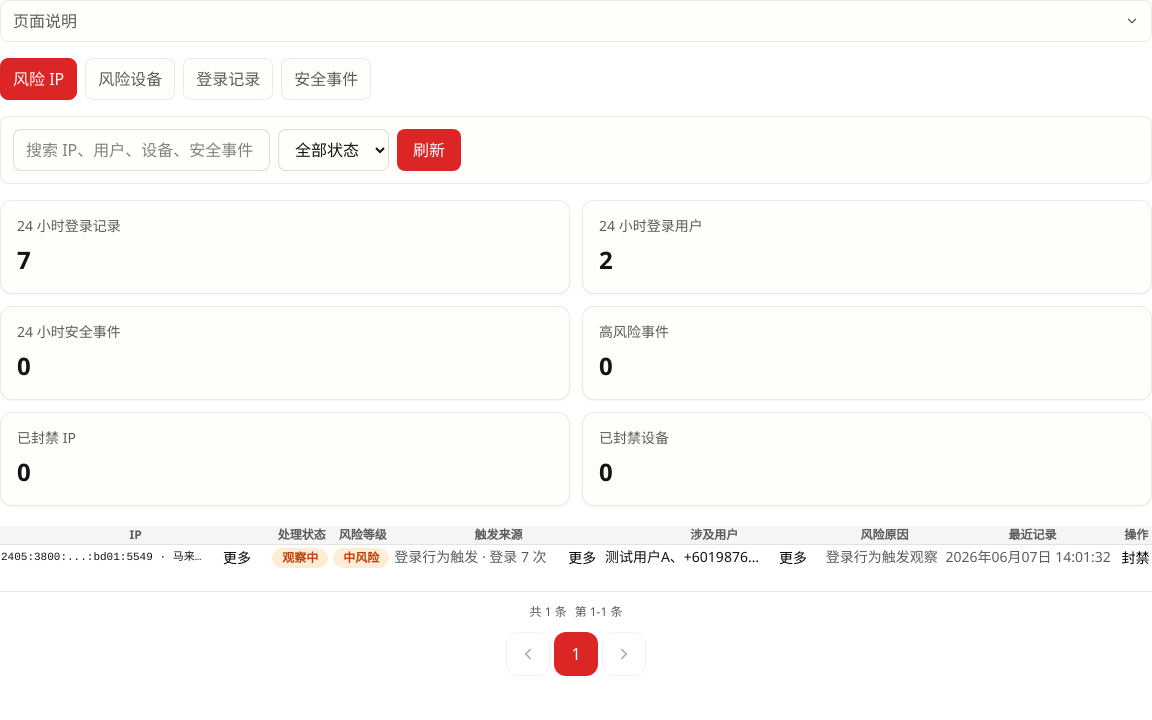
Test case: AdminUserSecurity › 在风险 IP 列显示 IP 归属国家
Click the button "更多" next to "测试用户A、+60198765432".
click(793, 558)  # box [773,546,813,570]
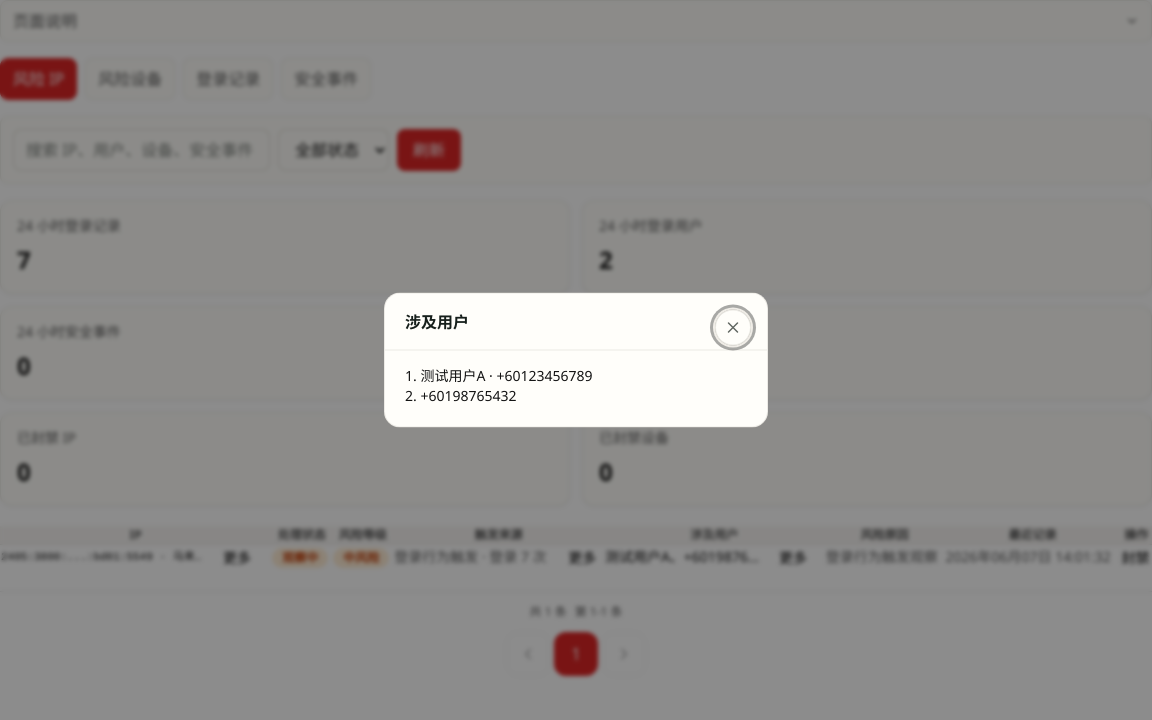
Expected: the text "+60198765432" is shown, [605,548,780,567]
Expected: the text "+60123456789" is shown, [405,366,592,406]
